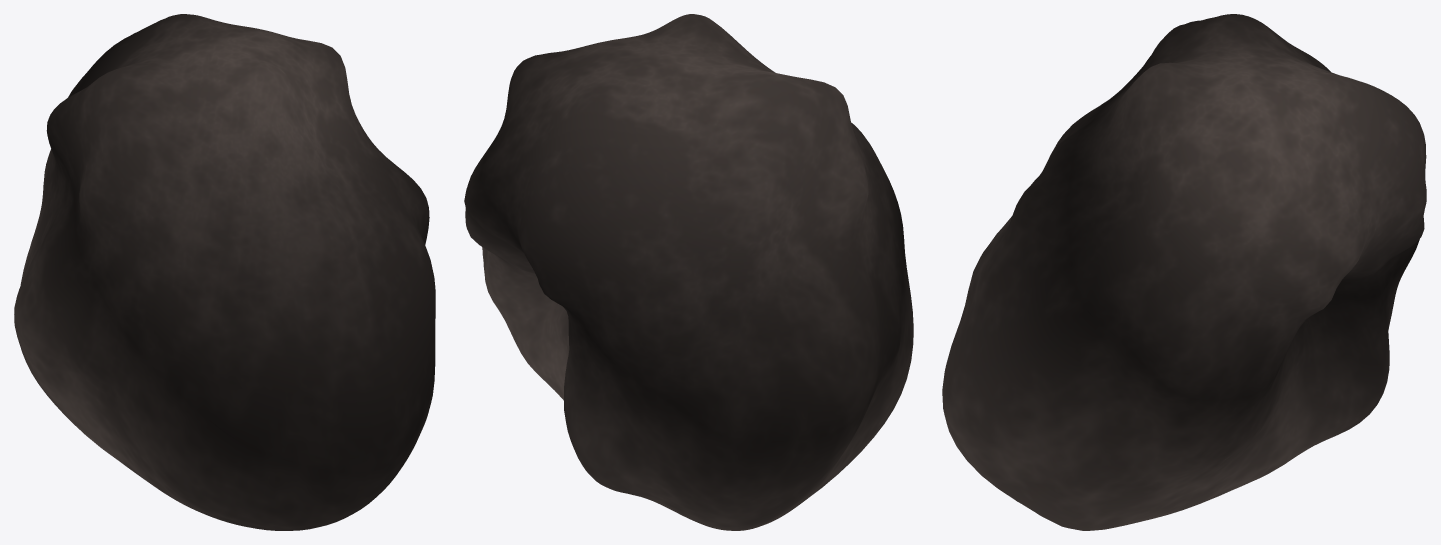
File: asteroid-boulder.glb
3 renders of one model, left to right at view 1: azimuth 30°, elevation 25°; view 2: azimuth 150°, elevation 25°; view 3: azimuth 270°, elevation 25°, orthographic. The views are drawn at different scales.
Parts seen in each view (by area): view 1: asteroid_1002; view 2: asteroid_1002; view 3: asteroid_1002.
Part boxes in pixels (x1,y1,x2,y2): asteroid_1002: [14, 14, 435, 530]; asteroid_1002: [464, 14, 913, 530]; asteroid_1002: [942, 14, 1426, 530].
Bounding box in the file's own units: 85.43 × 95.17 × 92.48.
Materials: 1 (1 with a texture image).
